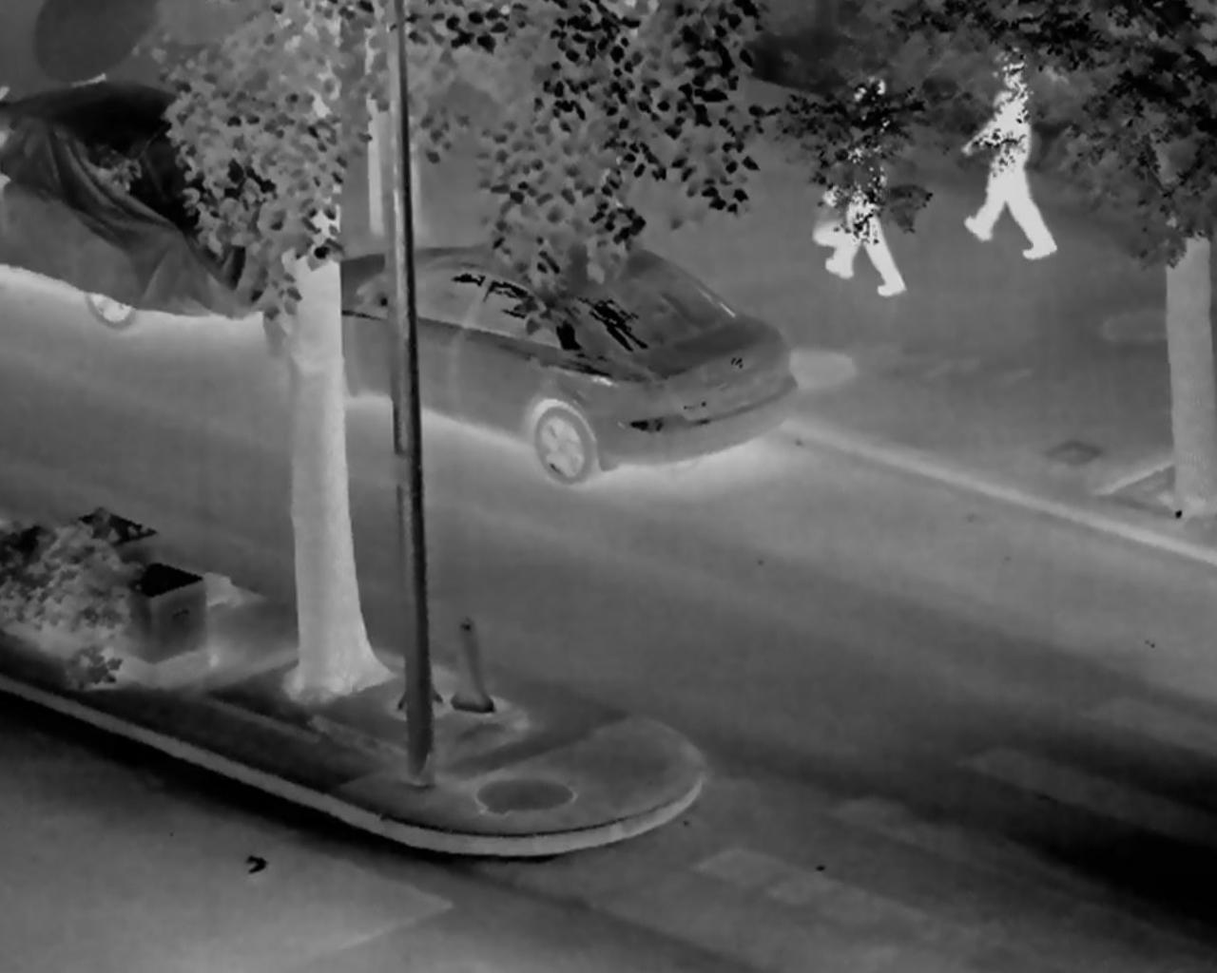person: (814, 72, 908, 294), (962, 51, 1058, 261)
